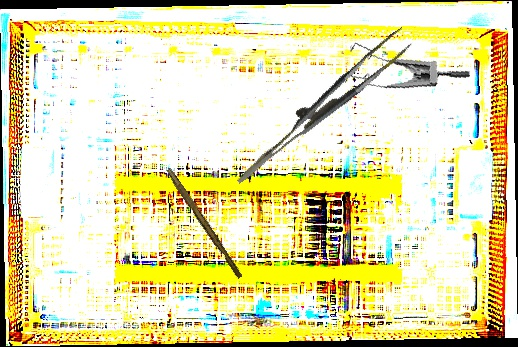Scalpel Handle: (163, 167, 245, 280)
Speculum: (336, 18, 472, 107)
Tissue Forceps: (216, 27, 425, 184)
